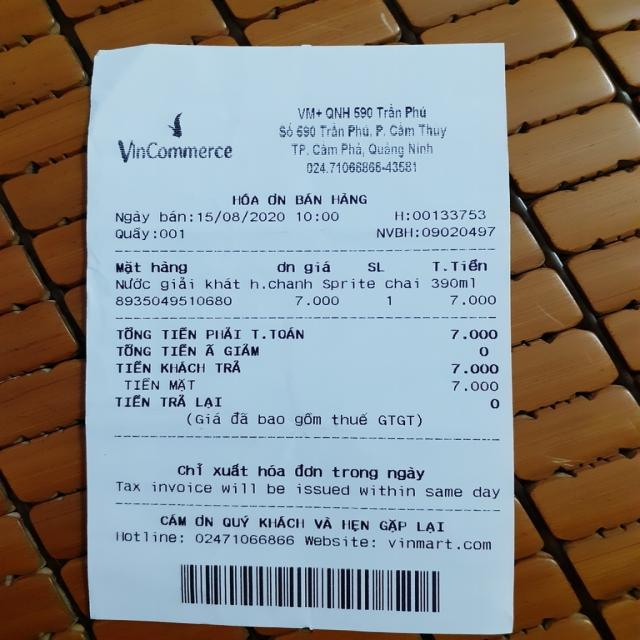Date: (199, 209, 287, 225)
Store_Name: (115, 136, 238, 166)
amount_number: (448, 325, 502, 343)
label_total: (111, 325, 308, 340)
